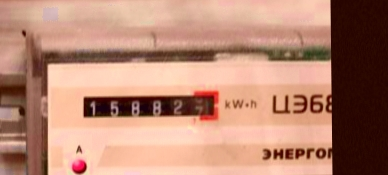1: (88, 98, 98, 114)
2: (172, 96, 183, 113)
5: (109, 98, 120, 114)
7: (194, 103, 204, 114)
8: (151, 97, 162, 114), (130, 98, 141, 114)
screen: (76, 84, 225, 125)
